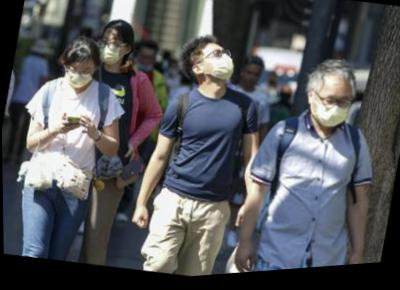NONE: (241, 70, 262, 94)
OK: (308, 91, 354, 139), (198, 47, 238, 89), (62, 60, 98, 94), (97, 36, 126, 70)
WRONG: (135, 54, 156, 78)
